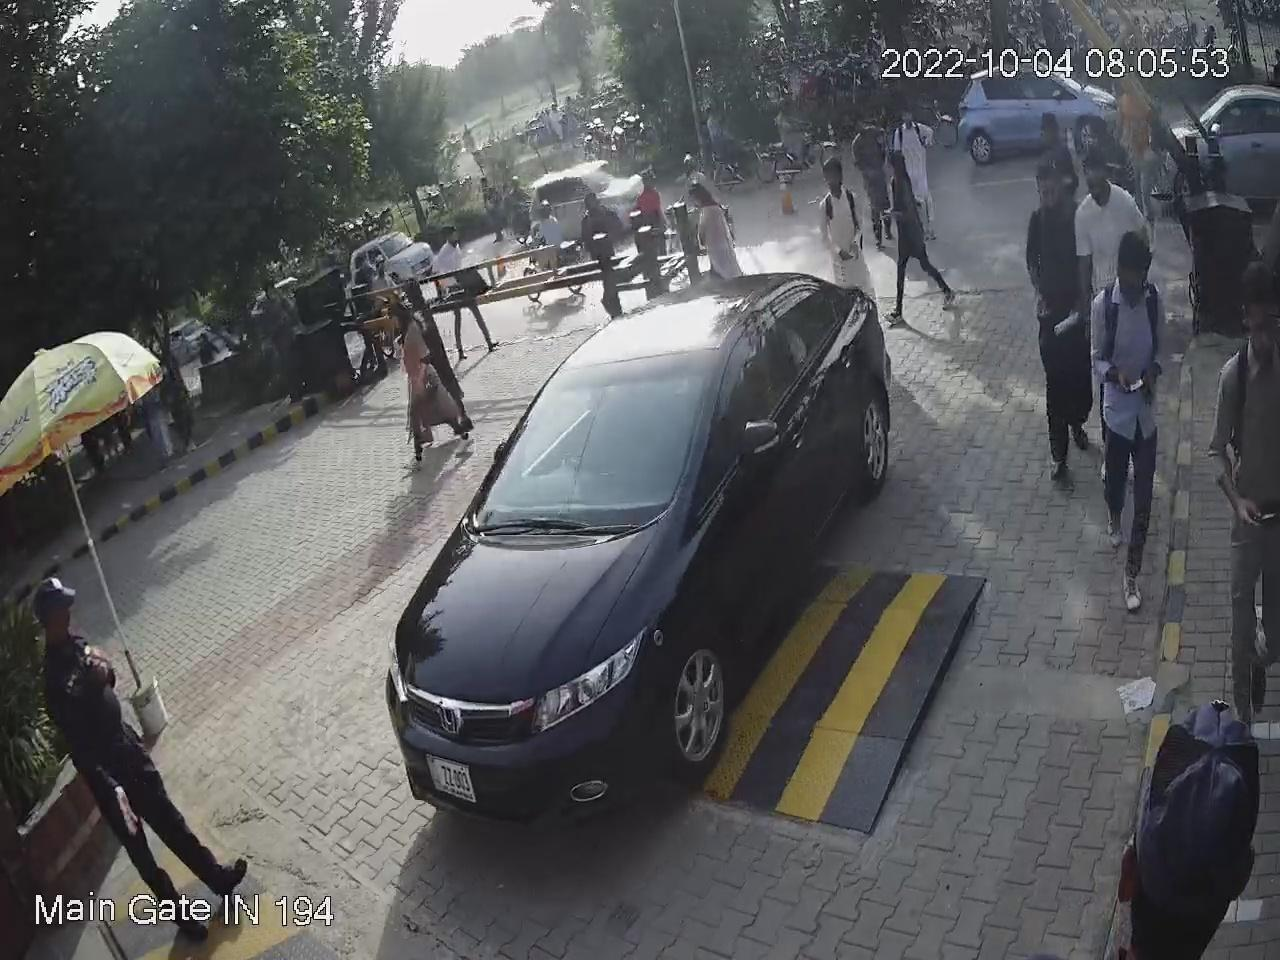windshield: (463, 338, 721, 527)
